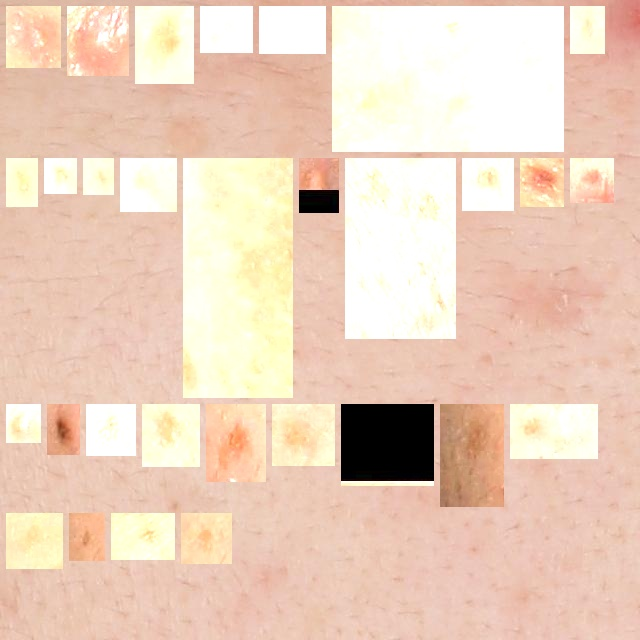melasma: (340, 14, 556, 144), (191, 166, 285, 390), (353, 166, 448, 331), (349, 412, 426, 478), (448, 412, 496, 499), (518, 412, 590, 451), (214, 412, 258, 474), (143, 14, 186, 76), (280, 412, 327, 458), (150, 412, 192, 459), (14, 521, 55, 561), (267, 14, 318, 46), (128, 166, 169, 204), (119, 521, 167, 552), (470, 166, 506, 203), (189, 521, 224, 556), (94, 412, 128, 448), (208, 14, 245, 45), (77, 521, 97, 553), (578, 14, 597, 46), (14, 166, 30, 199), (52, 166, 69, 186), (91, 166, 106, 187)
nevus: (528, 166, 556, 199), (578, 166, 606, 195), (55, 412, 72, 447)
pustule: (75, 14, 121, 68), (14, 14, 53, 60), (307, 166, 331, 205), (14, 412, 33, 435)
